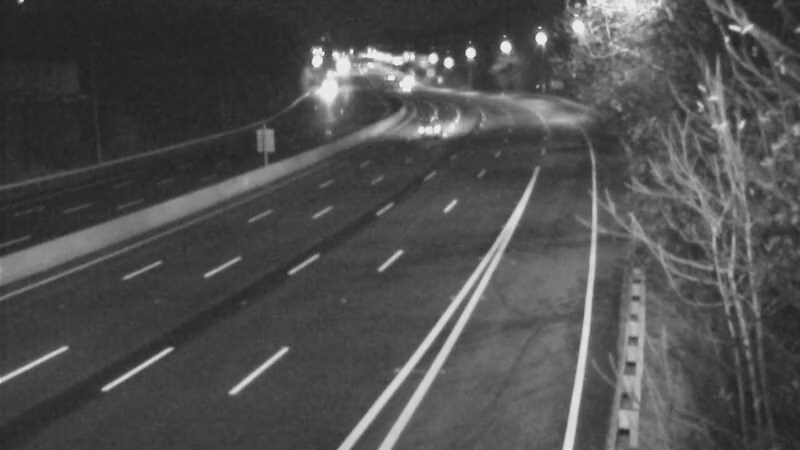vehicle: (381, 62, 431, 112), (398, 102, 448, 152)
